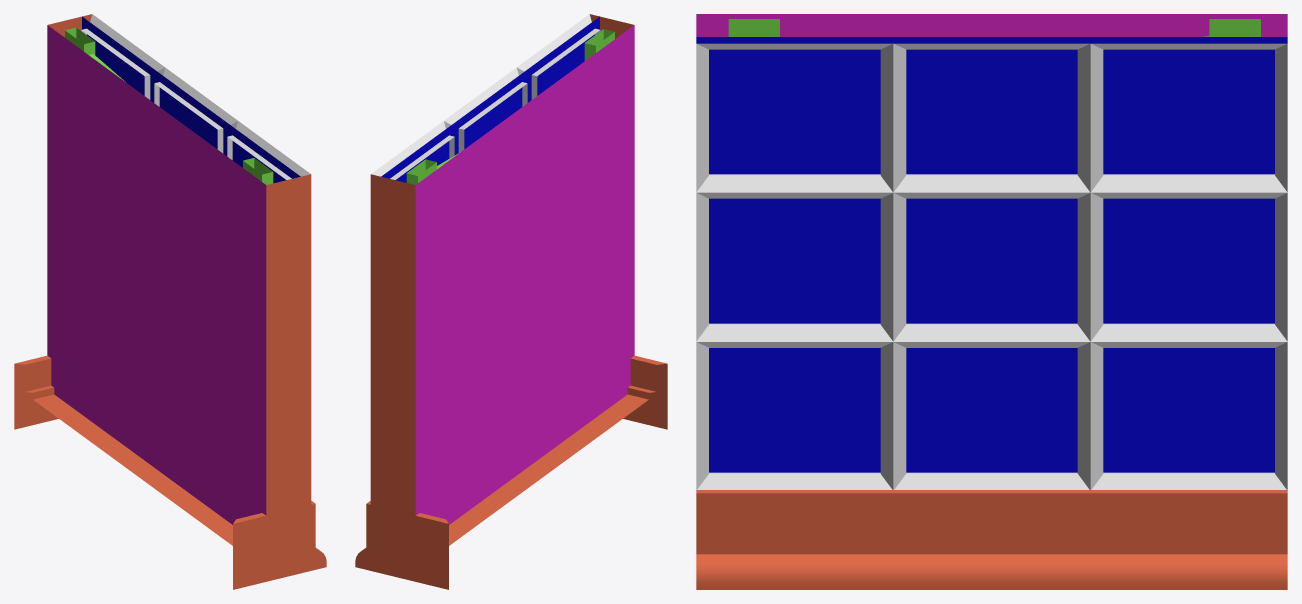
The model's file is Floor_01_Wall_09_a.fbx.
The picture shows the model from 3 angles, left to right: view 1: azimuth 30°, elevation 25°; view 2: azimuth 150°, elevation 25°; view 3: azimuth 270°, elevation 25°; orthographic projection. The views are drawn at different scales.
Parts seen in each view (by area): view 1: Cube.005; view 2: Cube.005; view 3: Cube.005.
Boxes of the visible parts, bbox=[...] form: Cube.005: bbox=[14, 14, 326, 589]; Cube.005: bbox=[355, 14, 667, 589]; Cube.005: bbox=[696, 14, 1287, 589].
Bounding box in the file's own units: 49.44 × 200 × 200.
